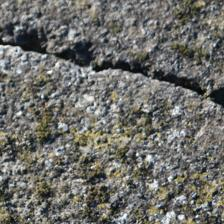Crack: (3, 13, 220, 99)
